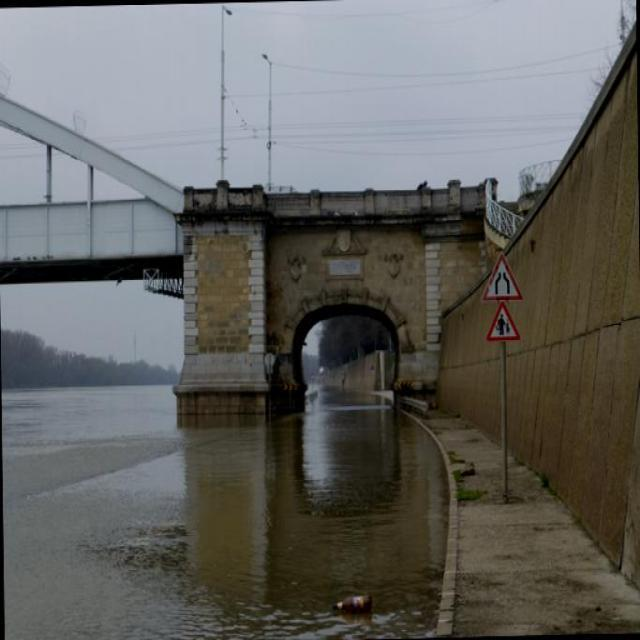flood: (0, 354, 459, 639)
